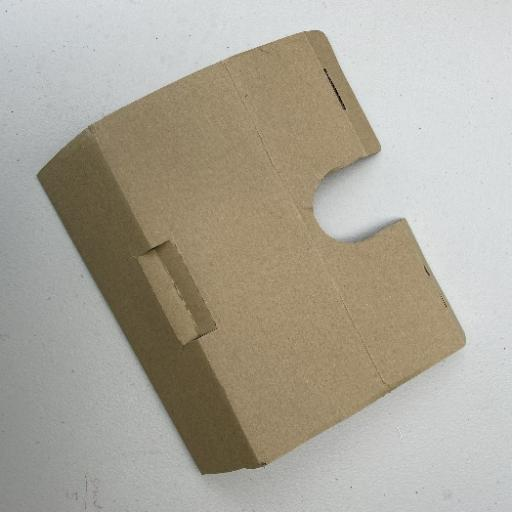Cardboard: (34, 27, 468, 476)
